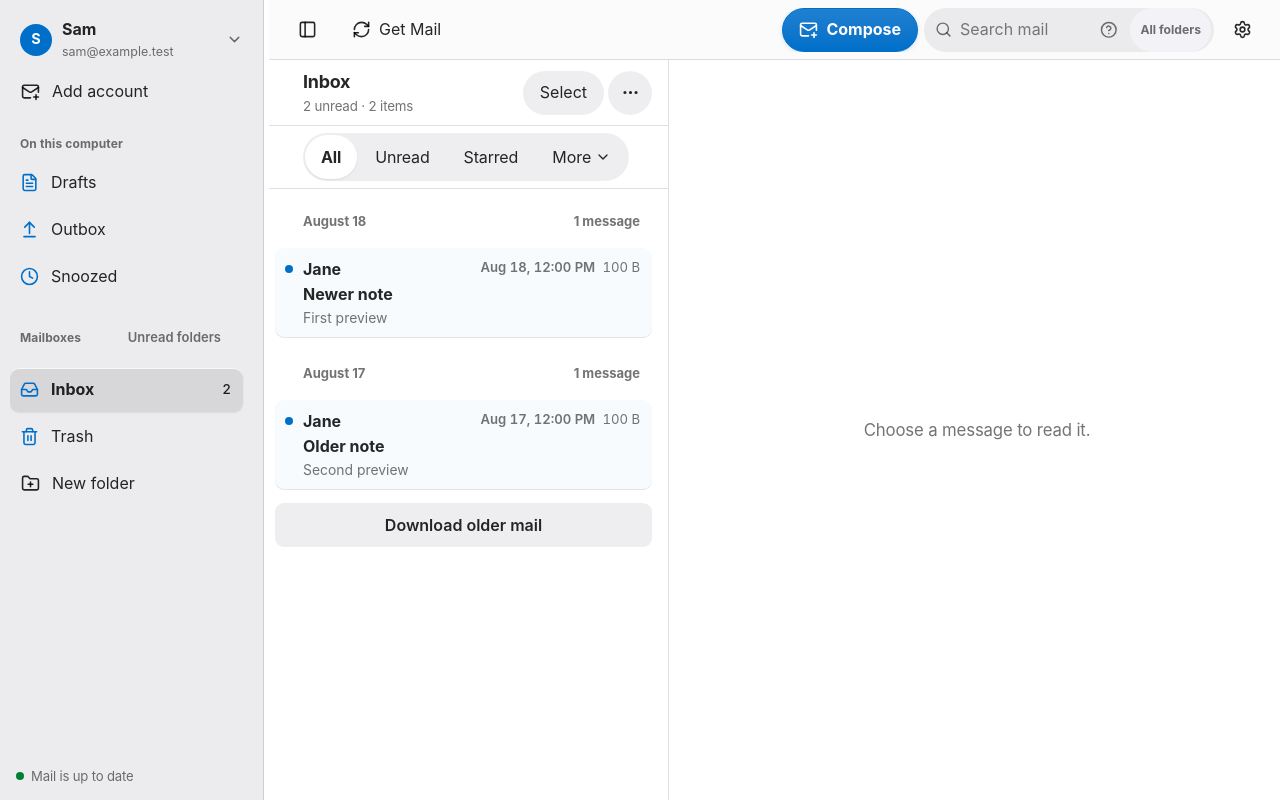
mail shell › lists the mailbox oldest first and can return to newest
Expected: the option "Jane Aug 18, 12:00 PM 100 B Newer note First preview" is shown, [275, 248, 652, 338]
Step 1. Click the button named "More mailbox actions" → [630, 93], box [608, 71, 652, 115]
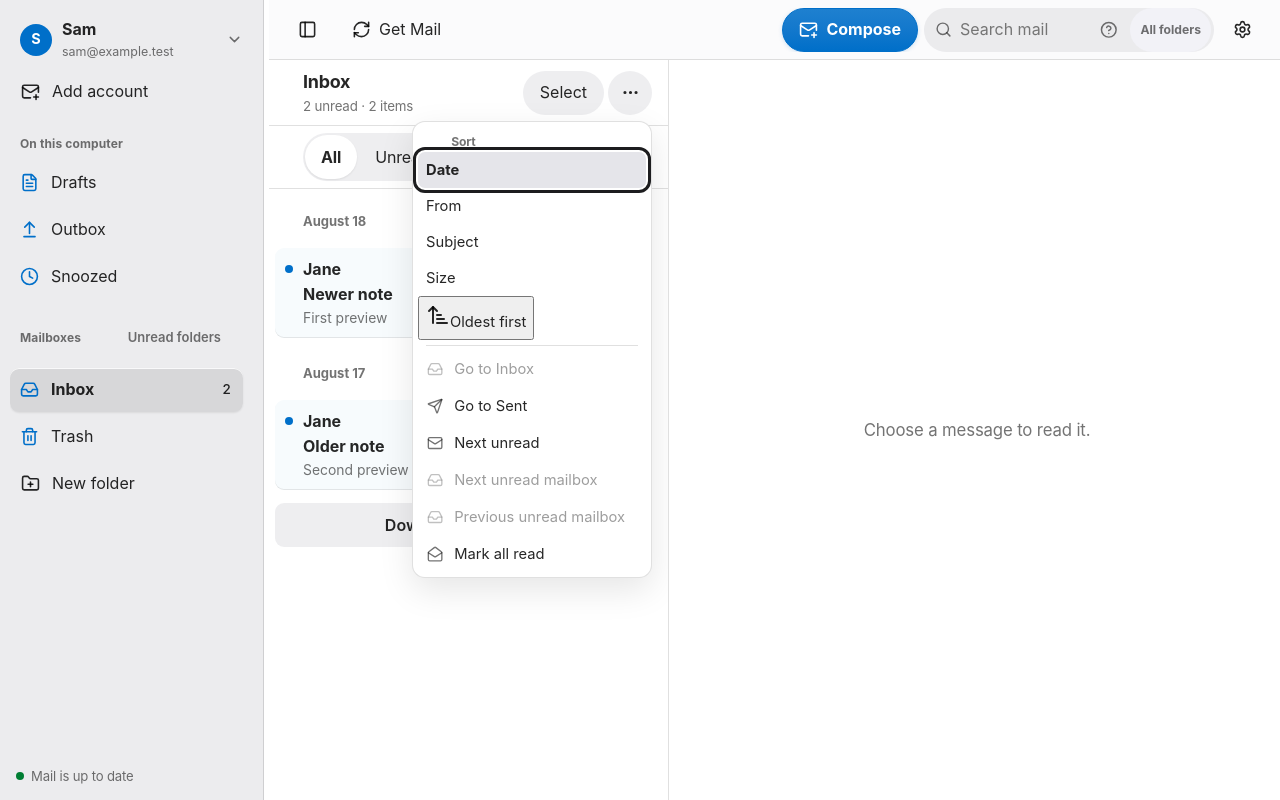
Step 2. Click the menu item "Oldest first" → [476, 318], box [418, 296, 534, 340]
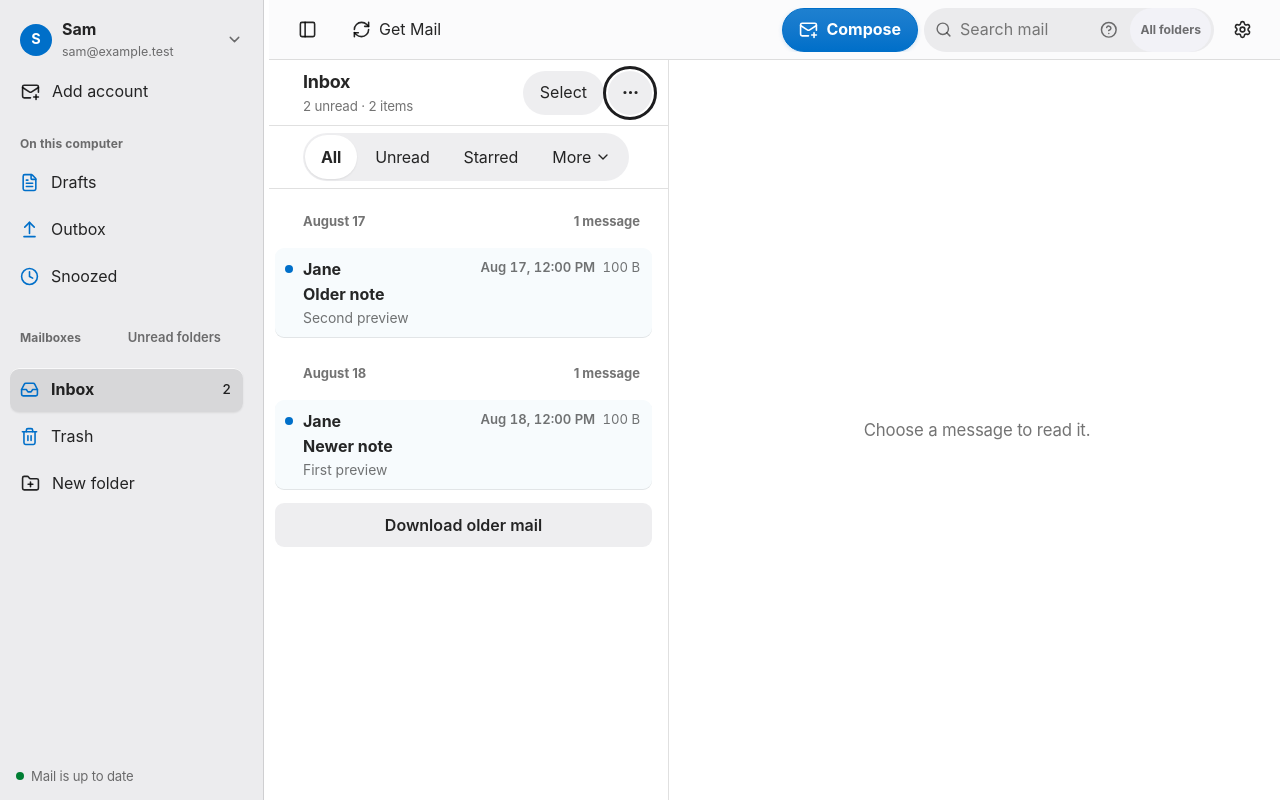
Expected: the option "Jane Aug 17, 12:00 PM 100 B Older note Second preview" is shown, [275, 248, 652, 338]
Expected: the option "Jane Aug 18, 12:00 PM 100 B Newer note First preview" is shown, [275, 400, 652, 490]
Step 3. Click the button named "More mailbox actions" → [630, 93], box [608, 71, 652, 115]
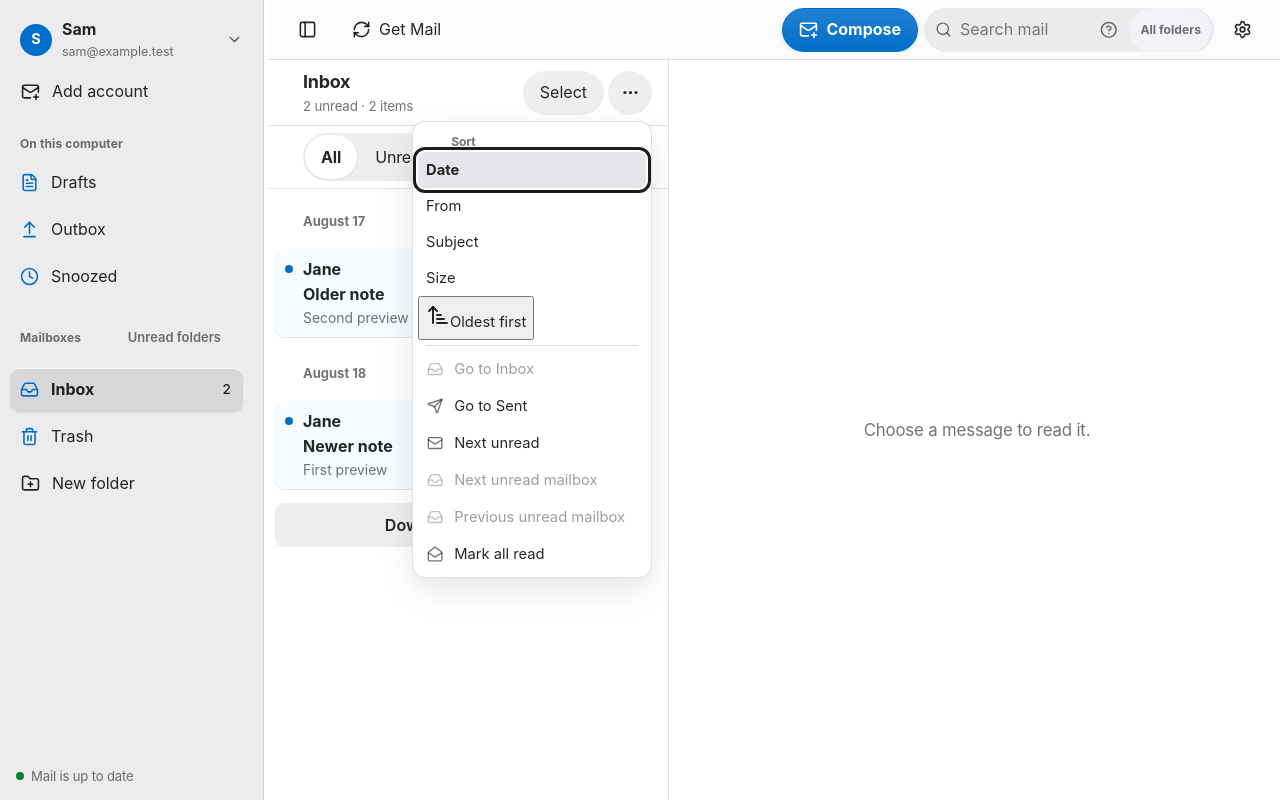
Step 4. Click the menu item "Date" → [532, 170], box [418, 152, 646, 188]
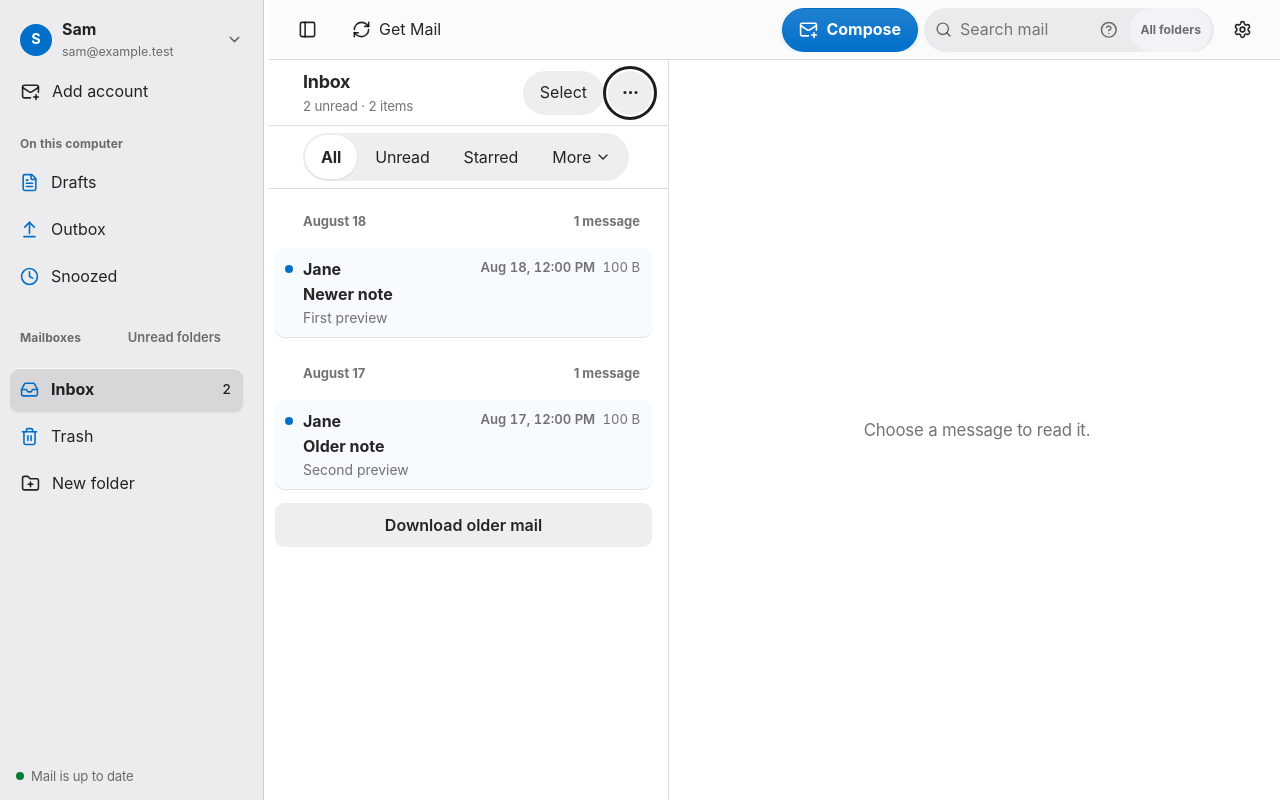
Expected: the option "Jane Aug 18, 12:00 PM 100 B Newer note First preview" is shown, [275, 248, 652, 338]
